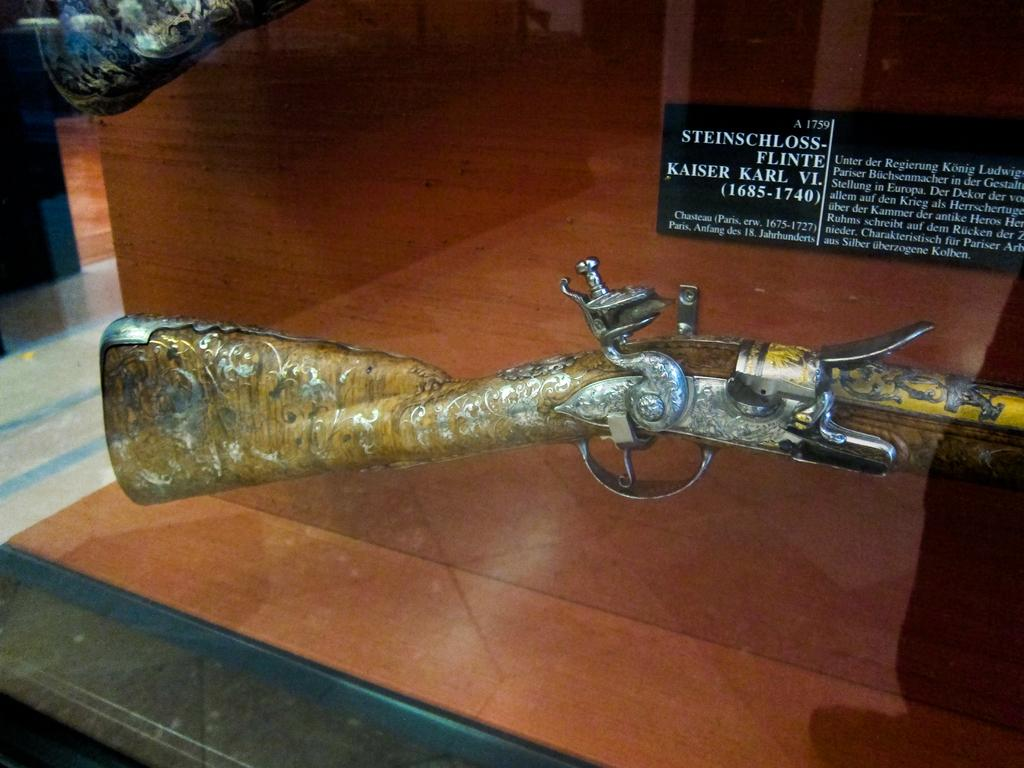Rifle: (59, 300, 966, 540)
